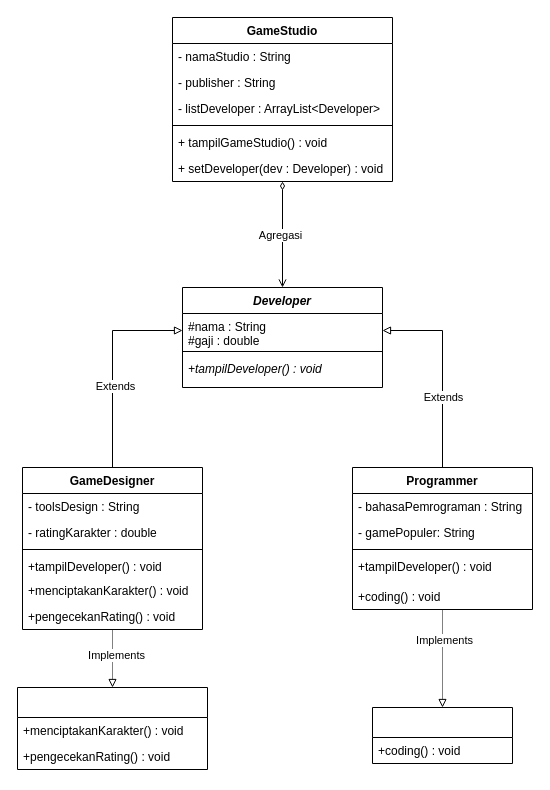
This 550x790 diagram has some shape labels left out. The box of each missing label's shape, as (x1, y1, x2, y2) in pixels:
<<interface>> IGameDesigner: (16, 686, 208, 770)
<<interface>> IProgrammer: (372, 706, 512, 764)
